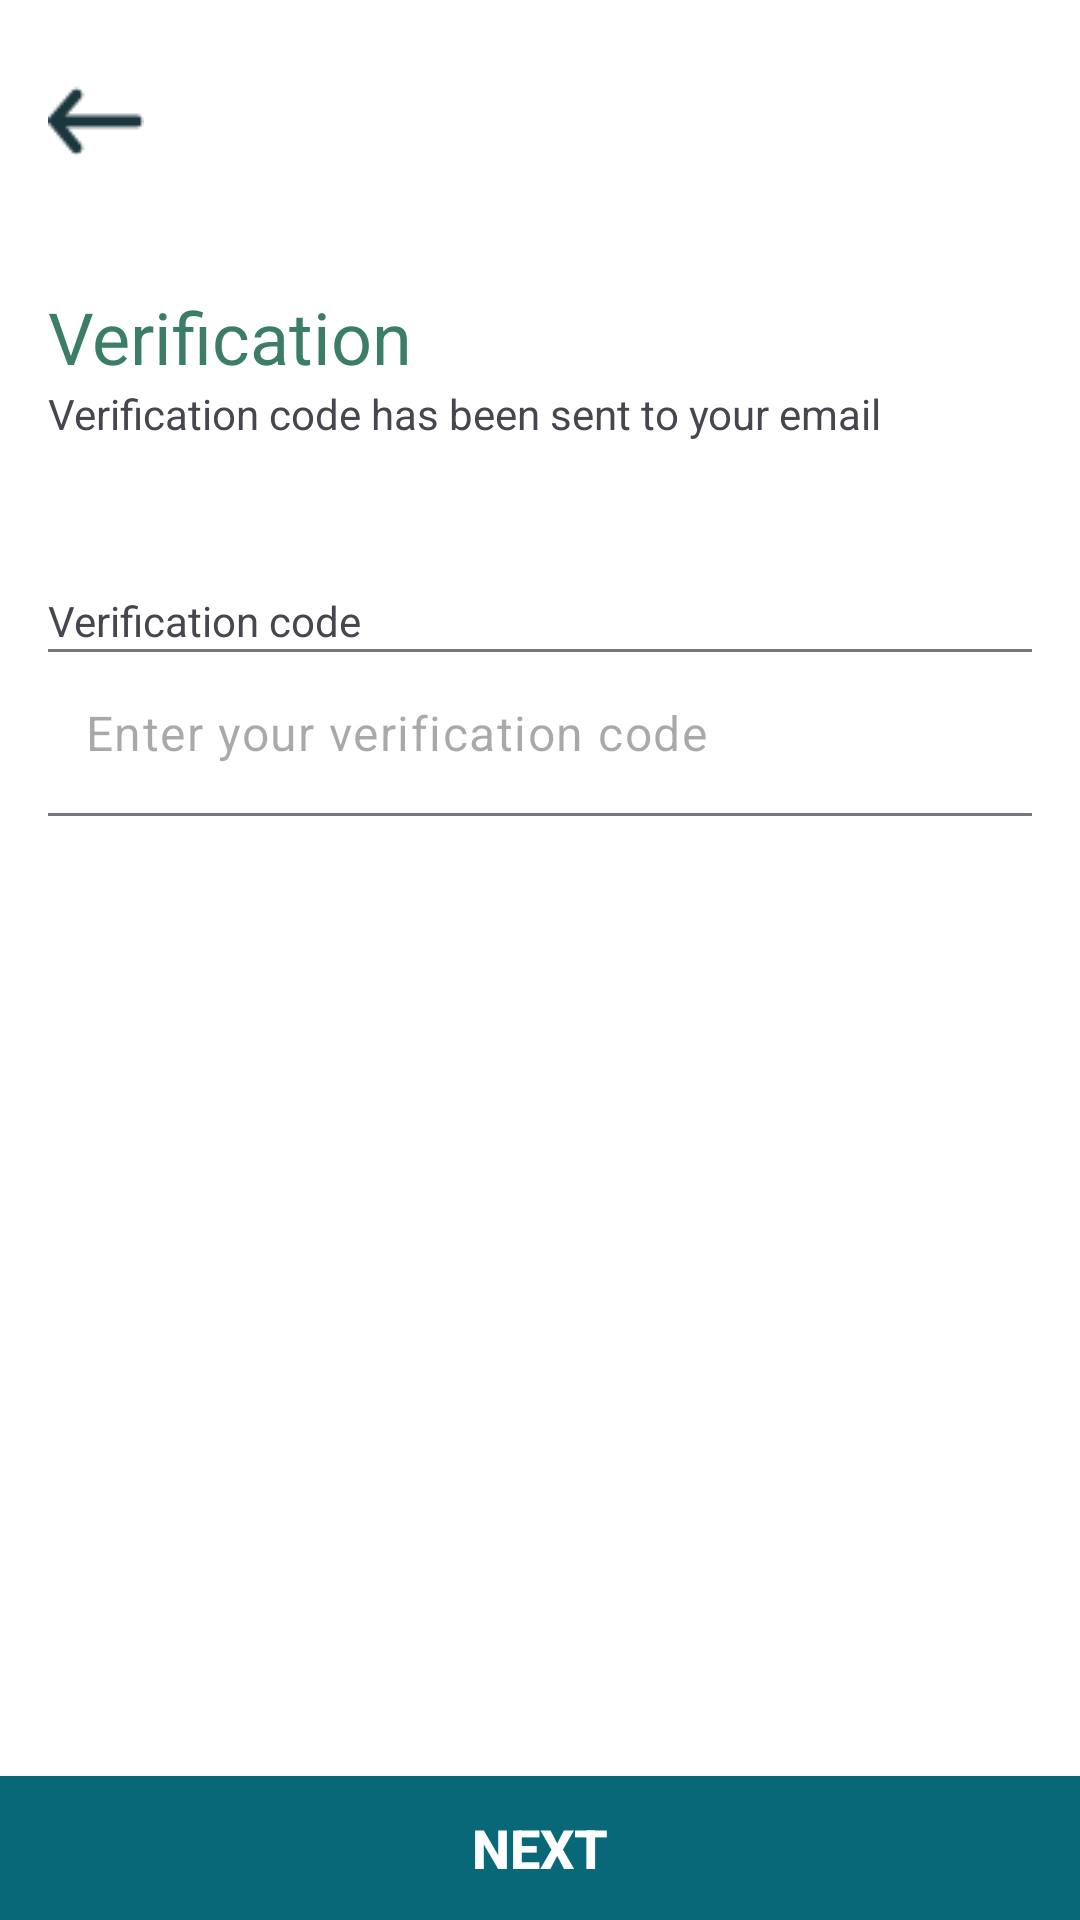

Named icons in this screenshot (1080 × 1920) and their centers, point (x, y):
back: point (96, 121)
